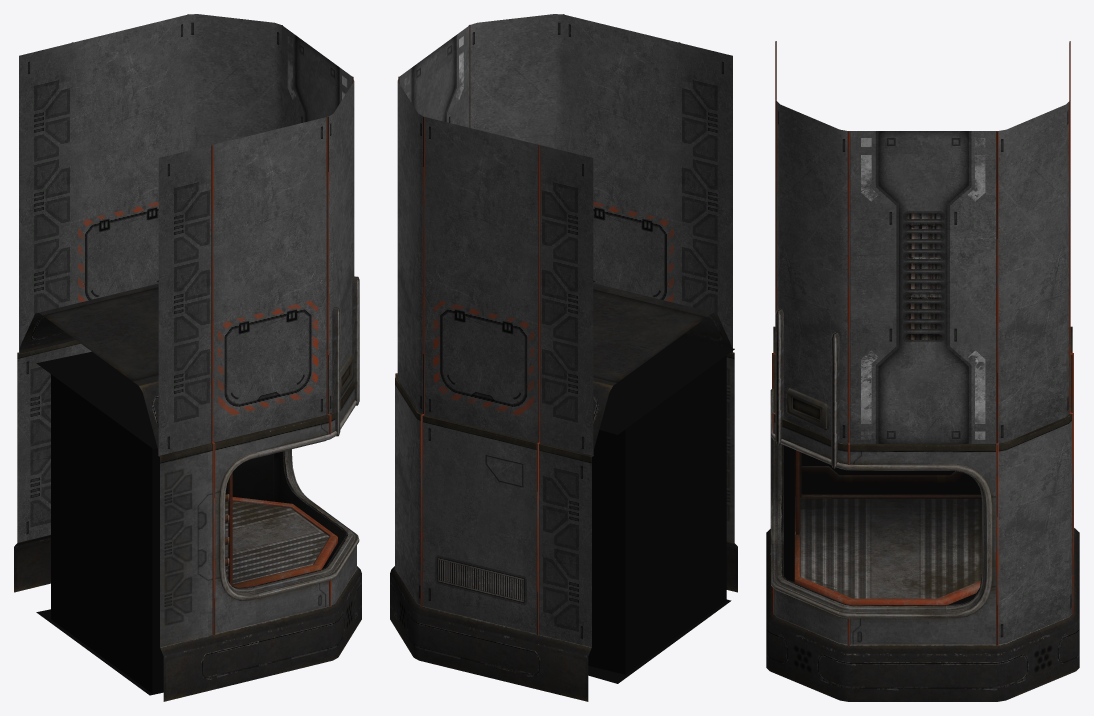
Rendered from cargo_elevator_tau_living_area.dae.
The picture shows the model from 3 angles, left to right: view 1: azimuth 30°, elevation 25°; view 2: azimuth 150°, elevation 25°; view 3: azimuth 270°, elevation 25°; orthographic projection. The views are drawn at different scales.
Visible parts, largest first — view 1: polySurface220, polySurface222; view 2: polySurface220, polySurface222; view 3: polySurface220, polySurface222.
Boxes of the visible parts, x1=… form: polySurface220: x1=17, y1=14, x2=354, y2=635; polySurface222: x1=14, y1=276, x2=361, y2=701; polySurface220: x1=395, y1=14, x2=732, y2=647; polySurface222: x1=390, y1=283, x2=737, y2=701; polySurface220: x1=772, y1=41, x2=1073, y2=645; polySurface222: x1=766, y1=308, x2=1079, y2=701.
Bounding box in the file's own units: 2.59 × 5.57 × 2.8.
